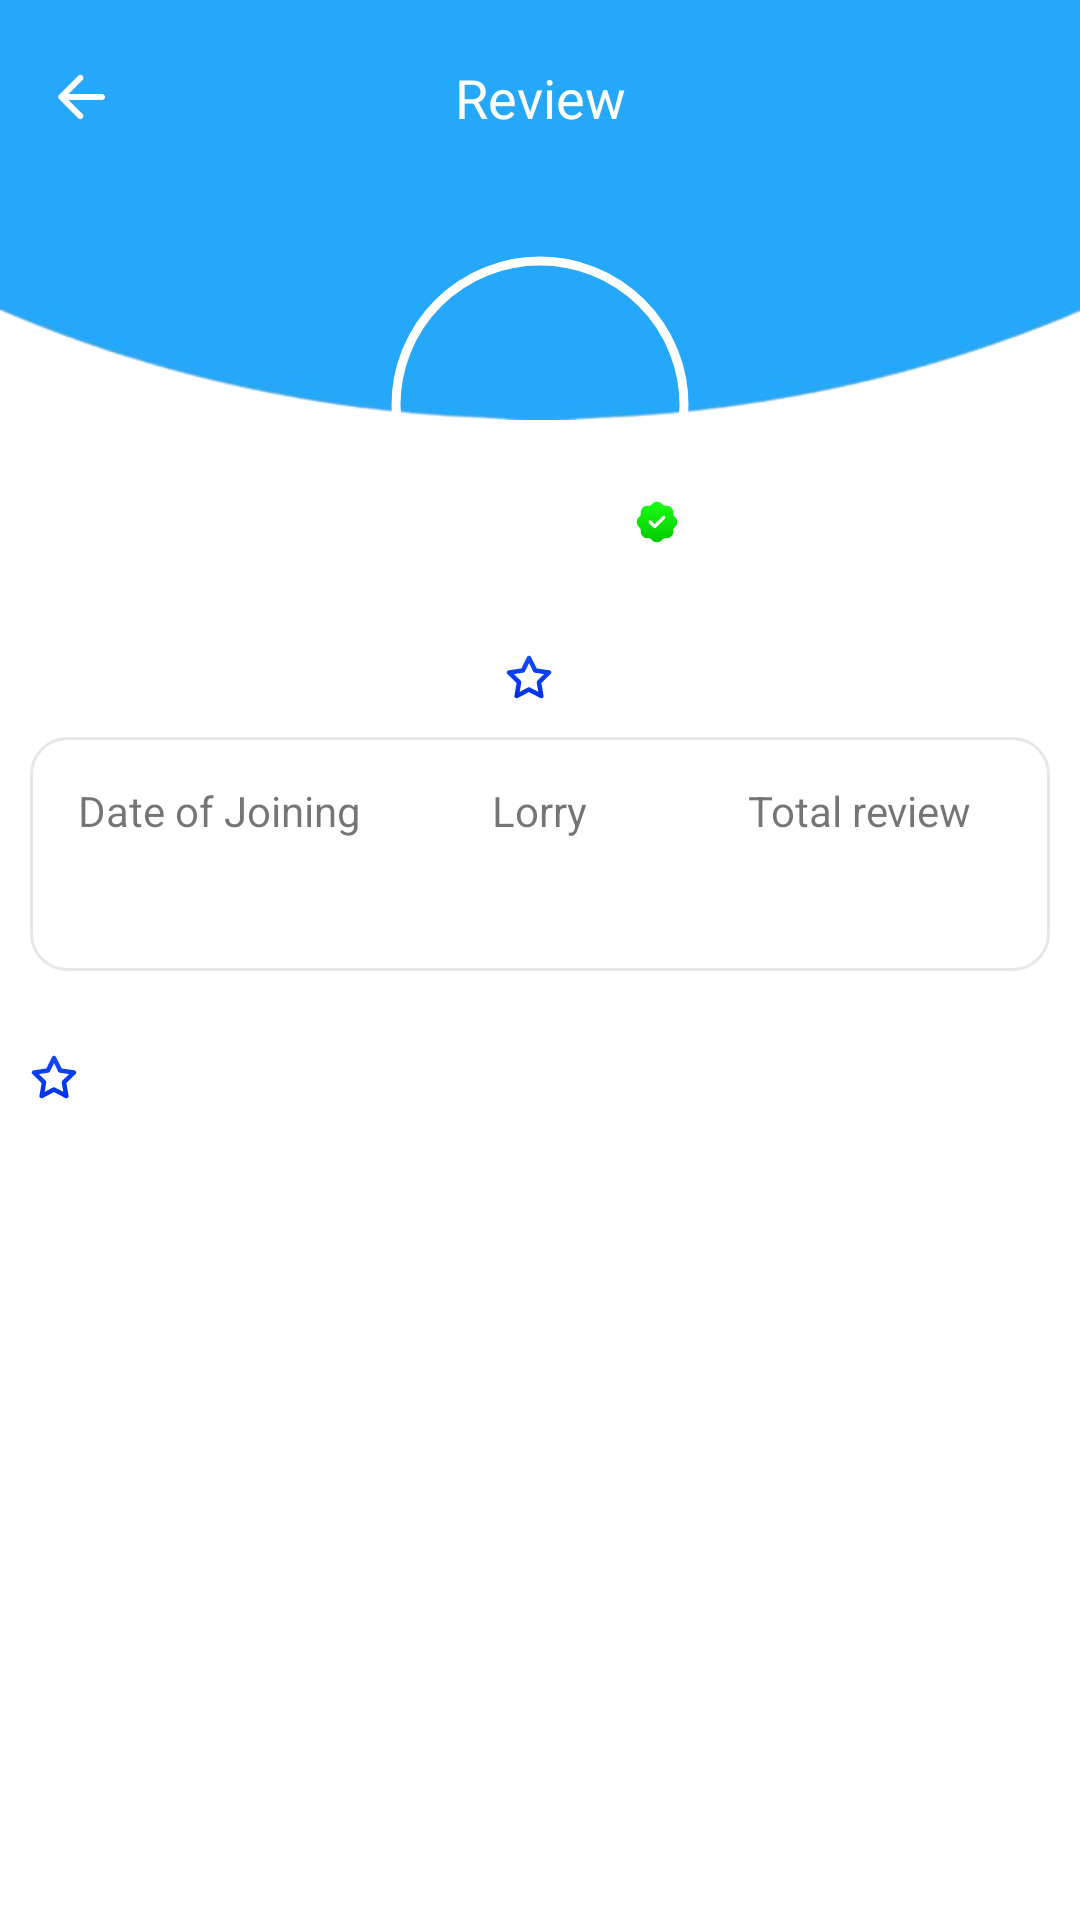

Locate icon controls on the screen. Image size 1080x1920, boxes as (x1, y1, x2, y2).
back: (58, 75, 105, 120)
